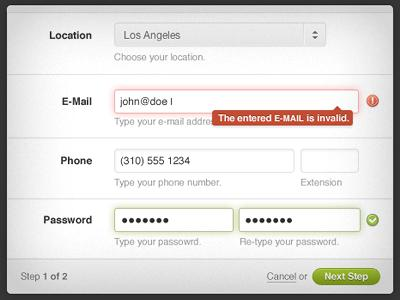error_field: (113, 86, 361, 116)
error_message: (216, 112, 350, 124)
